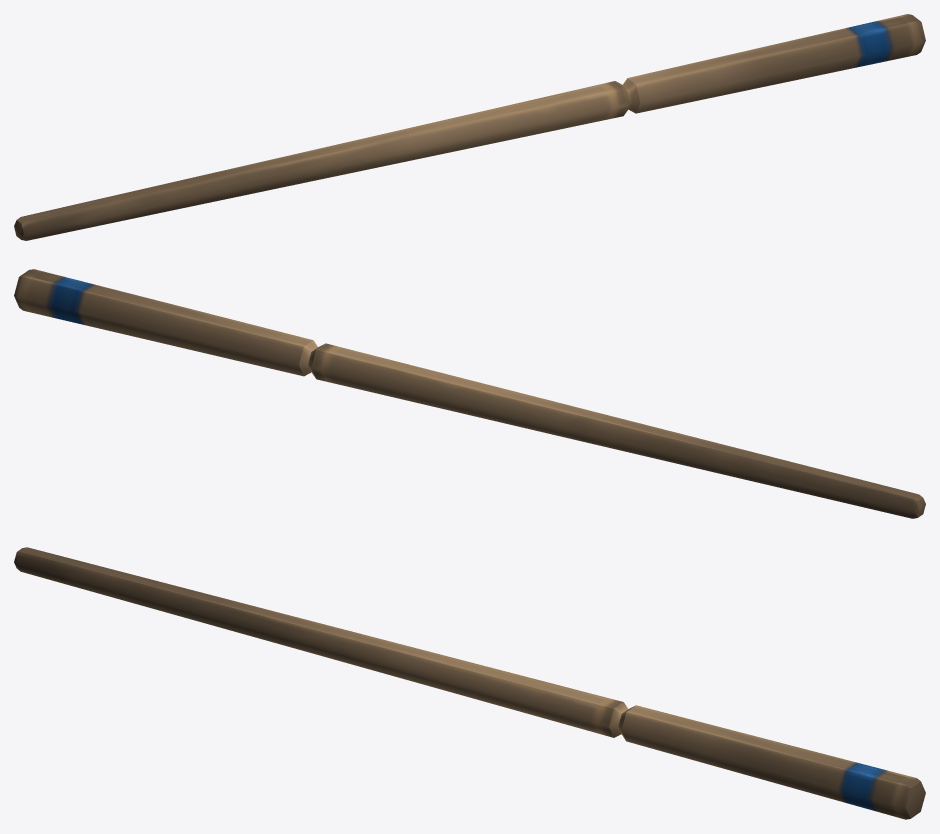
The model's file is Chopstick.FBX.
3 views of the same model, one above another, from view 1: azimuth 30°, elevation 25°; view 2: azimuth 150°, elevation 25°; view 3: azimuth 330°, elevation 25° (orthographic). The views are drawn at different scales.
Visible parts, largest first — view 1: Chopstick; view 2: Chopstick; view 3: Chopstick.
Boxes of the visible parts, x1=… form: Chopstick: x1=14, y1=14, x2=925, y2=240; Chopstick: x1=14, y1=269, x2=925, y2=518; Chopstick: x1=14, y1=547, x2=925, y2=819.
Size of the model in its own units: 184 by 7.38 by 10.12.
